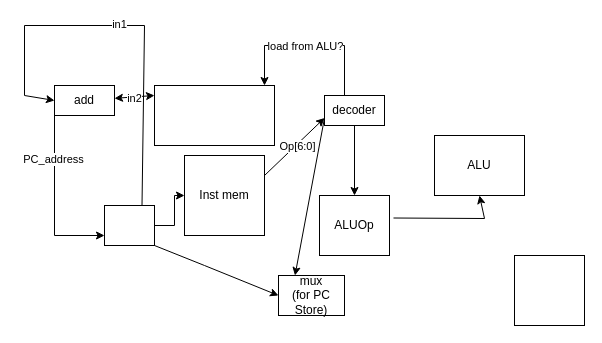
This 602x343 diagram has some shape labels left out. The shapes that lost their labels are listed below. From the top down, each one's box as (x1, y1, x2, y2) in pixels, then its label:
(154, 84, 274, 146): mux(for PCadder) 4 or ALU
(104, 204, 154, 246): PC
(514, 254, 584, 326): Reg
